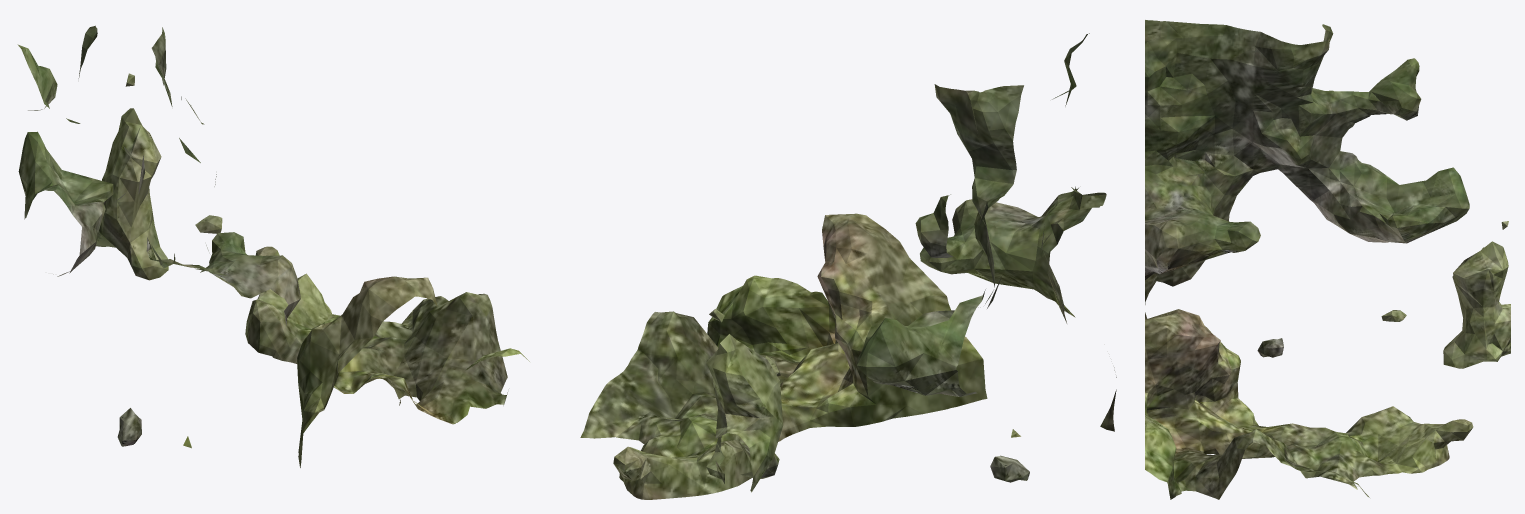
The picture shows the model from 3 angles, left to right: view 1: azimuth 30°, elevation 25°; view 2: azimuth 150°, elevation 25°; view 3: azimuth 270°, elevation 25°; orthographic projection. The views are drawn at different scales.
Size of the model in its own units: 2.95 by 2.95 by 2.95.
4 materials, 4 textured.
